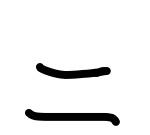eqv: (24, 61, 123, 127)
